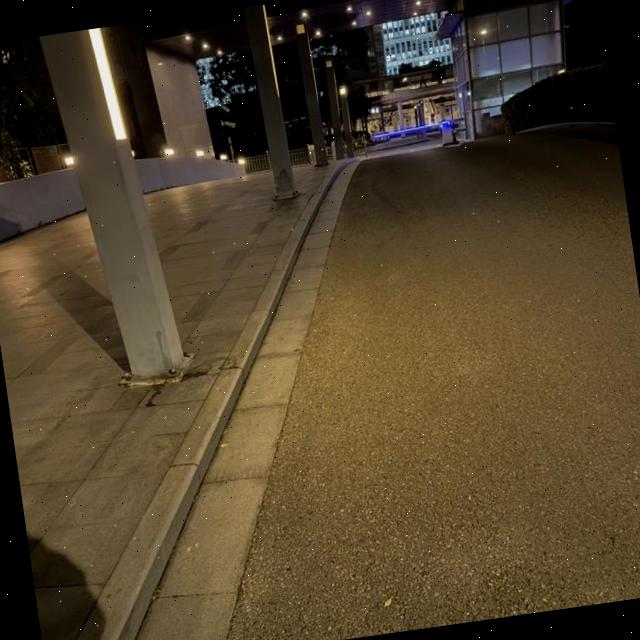curb: (76, 160, 356, 640), (517, 122, 617, 143)
